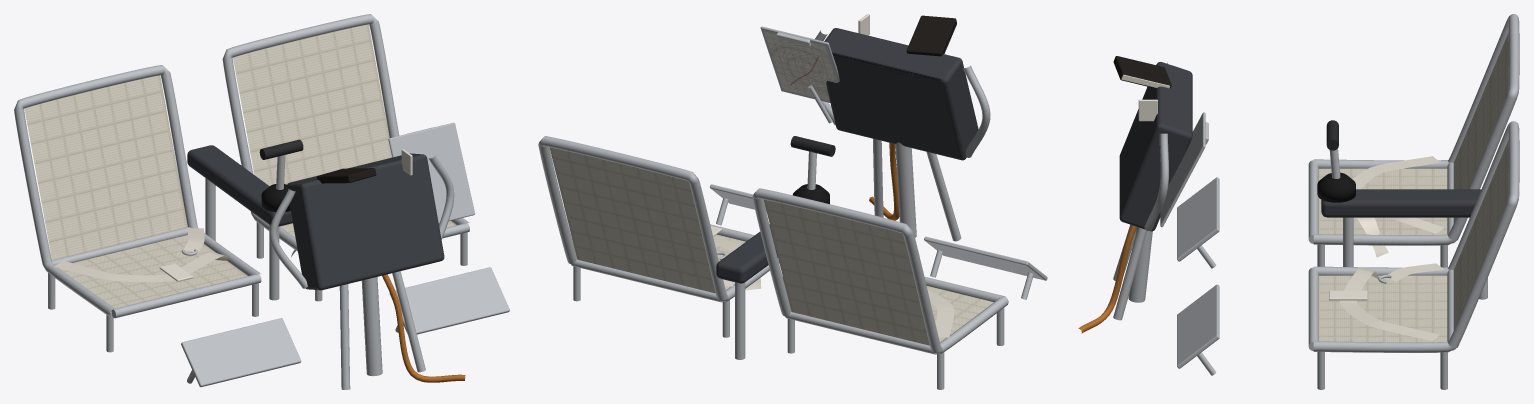
The model's file is lrv-seats.glb.
3 renders of one model, left to right at view 1: azimuth 30°, elevation 25°; view 2: azimuth 150°, elevation 25°; view 3: azimuth 270°, elevation 25°, orthographic. The views are drawn at different scales.
Parts seen in each view (by area): view 1: SEATS, SEATS_Aluminio_satinado, DRIVING_CONSOLE, DRIVING_CONSOLE_Aluminio_satinado, T_CONTROLLER_Aluminio_anodizado_oscuro, T_CONTROLLER, CONSOLE_HARNESS_Mazo_encintado_en_Kapton; view 2: SEATS, DRIVING_CONSOLE, SEATS_Aluminio_satinado, DRIVING_CONSOLE_Aluminio_satinado, T_CONTROLLER, T_CONTROLLER_Aluminio_anodizado_oscuro, CONSOLE_HARNESS_Mazo_encintado_en_Kapton; view 3: SEATS, SEATS_Aluminio_satinado, DRIVING_CONSOLE, DRIVING_CONSOLE_Aluminio_satinado, T_CONTROLLER_Aluminio_anodizado_oscuro, T_CONTROLLER, CONSOLE_HARNESS_Mazo_encintado_en_Kapton.
Boxes of the visible parts, x1=… form: SEATS: x1=24, y1=24, x2=455, y2=308; SEATS_Aluminio_satinado: x1=14, y1=14, x2=509, y2=387; DRIVING_CONSOLE: x1=286, y1=127, x2=444, y2=290; DRIVING_CONSOLE_Aluminio_satinado: x1=269, y1=122, x2=475, y2=389; T_CONTROLLER_Aluminio_anodizado_oscuro: x1=187, y1=145, x2=292, y2=226; T_CONTROLLER: x1=205, y1=139, x2=303, y2=300; CONSOLE_HARNESS_Mazo_encintado_en_Kapton: x1=382, y1=274, x2=465, y2=382; SEATS: x1=549, y1=147, x2=993, y2=345; DRIVING_CONSOLE: x1=764, y1=14, x2=978, y2=160; SEATS_Aluminio_satinado: x1=538, y1=136, x2=1047, y2=389; DRIVING_CONSOLE_Aluminio_satinado: x1=760, y1=26, x2=990, y2=241; T_CONTROLLER: x1=735, y1=136, x2=835, y2=359; T_CONTROLLER_Aluminio_anodizado_oscuro: x1=716, y1=224, x2=777, y2=283; CONSOLE_HARNESS_Mazo_encintado_en_Kapton: x1=869, y1=142, x2=899, y2=220; SEATS: x1=1318, y1=33, x2=1508, y2=342; SEATS_Aluminio_satinado: x1=1177, y1=14, x2=1519, y2=389; DRIVING_CONSOLE: x1=1113, y1=56, x2=1208, y2=231; DRIVING_CONSOLE_Aluminio_satinado: x1=1113, y1=63, x2=1205, y2=320; T_CONTROLLER_Aluminio_anodizado_oscuro: x1=1321, y1=189, x2=1481, y2=217; T_CONTROLLER: x1=1317, y1=120, x2=1487, y2=299; CONSOLE_HARNESS_Mazo_encintado_en_Kapton: x1=1078, y1=225, x2=1137, y2=333.
Bounding box in the file's own units: 1.15 × 0.6614 × 1.15.
Materials: 14 (4 with a texture image).
